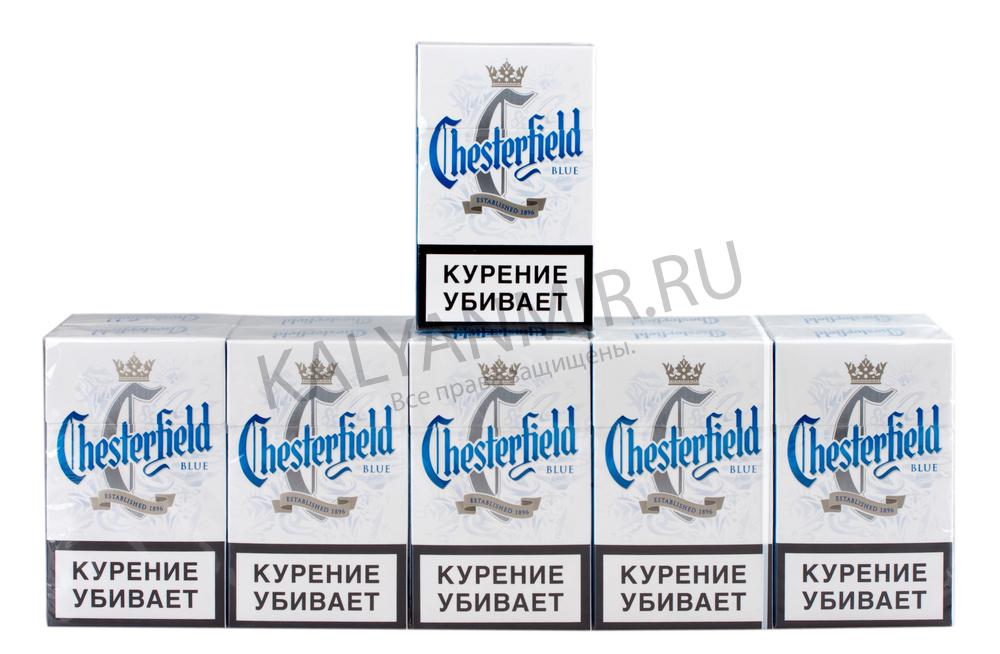chesterfield_blue: (226, 344, 410, 626), (45, 342, 224, 628), (412, 342, 589, 630), (417, 44, 591, 333), (598, 344, 768, 628), (779, 347, 949, 626)
